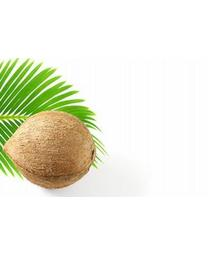coconut: (2, 110, 96, 190)
